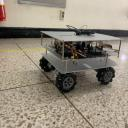cart: (39, 30, 123, 92)
